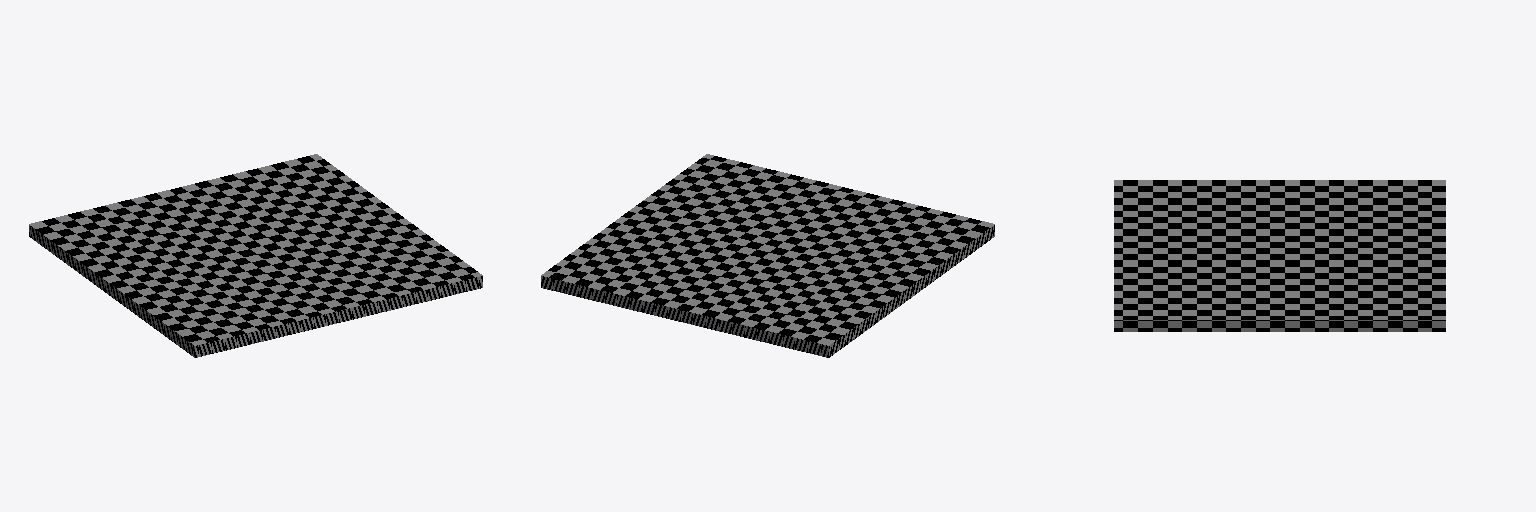
3 views of the same model, side by side, from view 1: azimuth 30°, elevation 25°; view 2: azimuth 150°, elevation 25°; view 3: azimuth 270°, elevation 25° (orthographic).
Visible parts, largest first — view 1: Cube_Cube.001; view 2: Cube_Cube.001; view 3: Cube_Cube.001.
Boxes of the visible parts, x1,y1,x2,y2 form: Cube_Cube.001: [29, 154, 482, 357]; Cube_Cube.001: [541, 154, 994, 357]; Cube_Cube.001: [1114, 180, 1445, 331].
Bounding box in the file's own units: 45.16 × 1.83 × 45.16.
Materials: 1 (1 with a texture image).